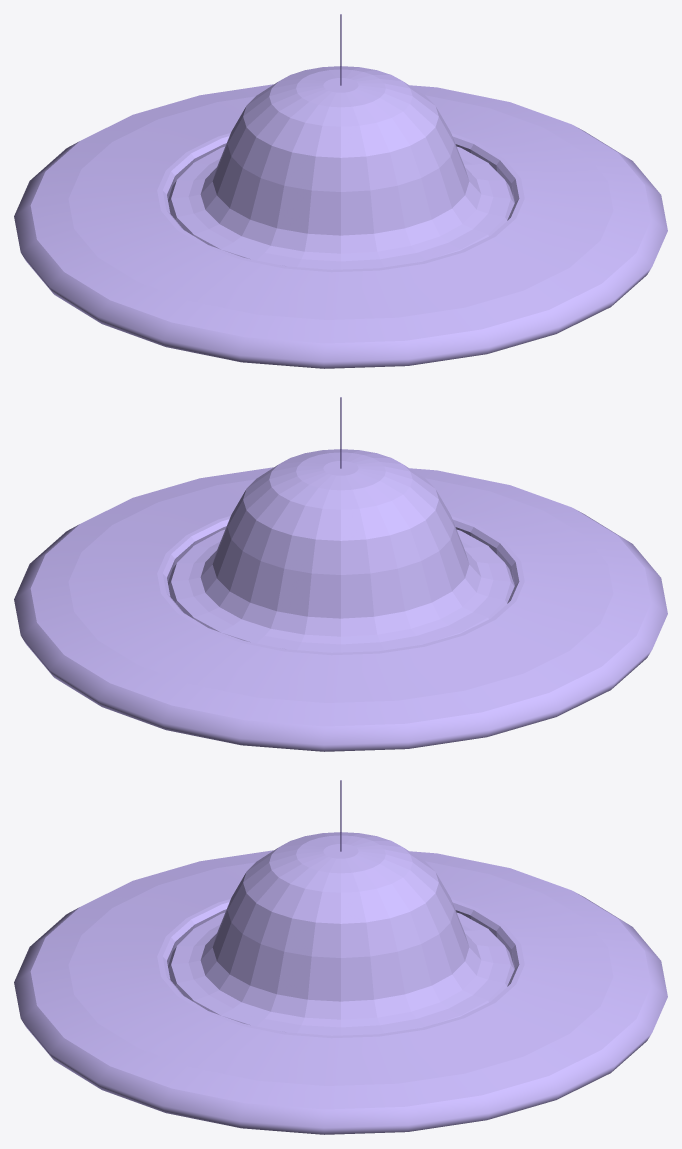
The model's file is FlyingSaucer.fbx.
3 renders of one model, top to bottom at view 1: azimuth 30°, elevation 25°; view 2: azimuth 150°, elevation 25°; view 3: azimuth 270°, elevation 25°, orthographic.
Parts seen in each view (by area): view 1: spinningRing, cockpit; view 2: spinningRing, cockpit; view 3: spinningRing, cockpit.
Boxes of the visible parts, x1=… form: spinningRing: x1=14, y1=84, x2=667, y2=368; cockpit: x1=168, y1=14, x2=514, y2=269; spinningRing: x1=14, y1=467, x2=667, y2=751; cockpit: x1=168, y1=397, x2=514, y2=652; spinningRing: x1=14, y1=850, x2=667, y2=1134; cockpit: x1=168, y1=780, x2=514, y2=1035.
Bounding box in the file's own units: 7.99 × 3.82 × 7.99.
